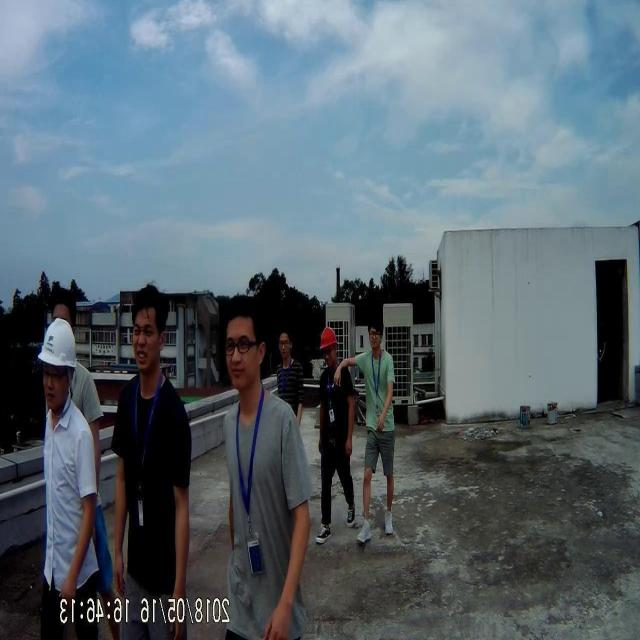helmet: (321, 316, 338, 360)
